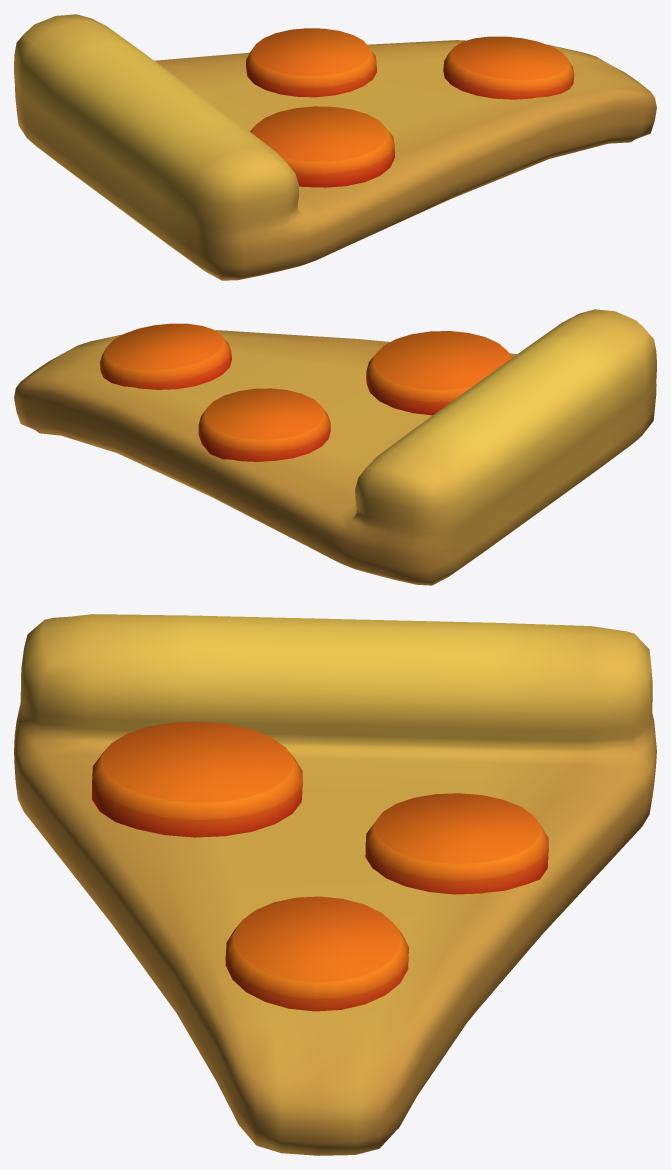
File: lpb_food_pizza.fbx
The picture shows the model from 3 angles, top to bottom: view 1: azimuth 30°, elevation 25°; view 2: azimuth 150°, elevation 25°; view 3: azimuth 270°, elevation 25°; orthographic projection. The views are drawn at different scales.
Parts seen in each view (by area): view 1: pizza; view 2: pizza; view 3: pizza.
Part boxes in pixels (x1,y1,x2,y2): pizza: (14,14,656,280); pizza: (14,309,656,585); pizza: (14,614,656,1155).
Bounding box in the file's own units: 64.1 × 16.77 × 47.7.
